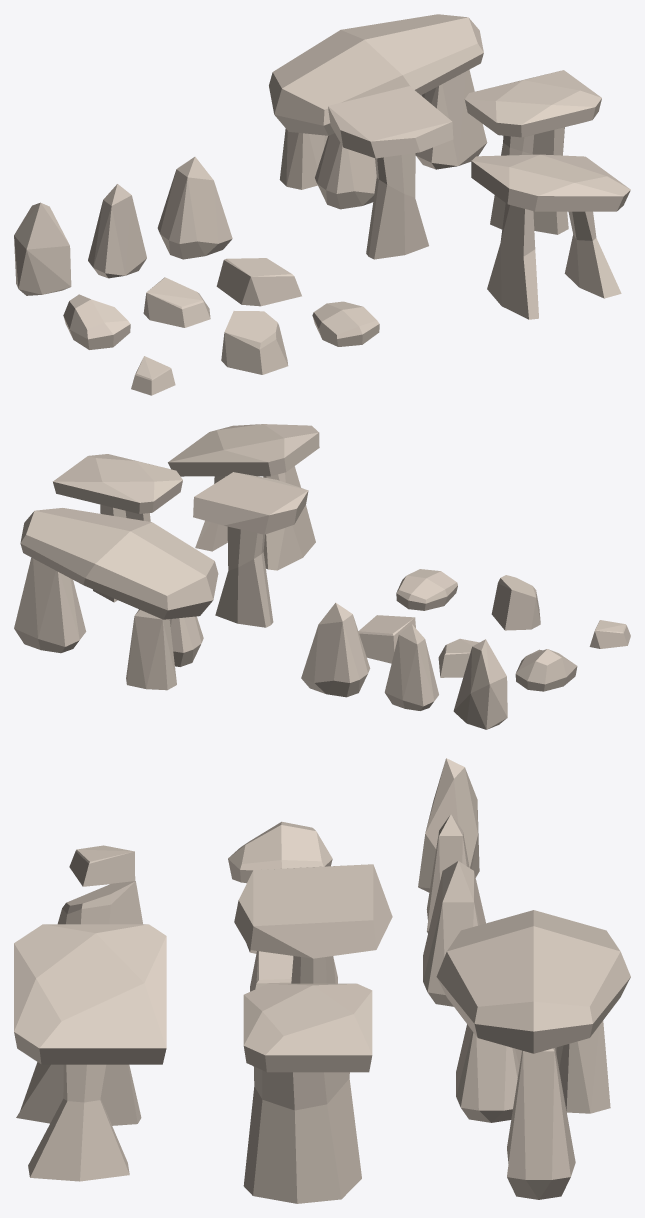
File: _stonesCompletePack.obj
The picture shows the model from 3 angles, top to bottom: view 1: azimuth 30°, elevation 25°; view 2: azimuth 150°, elevation 25°; view 3: azimuth 270°, elevation 25°; orthographic projection. The views are drawn at different scales.
Parts seen in each view (by area): view 1: Dolmen_01, Dolmen_05, Dolmen_02, Dolmen_03, Stone_03, Stone_01, Stone_02, Stone_08, Stone_06, Stone_04, Stone_05, Stone_09 (+1 smaller); view 2: Dolmen_01, Dolmen_02, Dolmen_05, Dolmen_03, Stone_03, Stone_01, Stone_02, Stone_08, Stone_09, Stone_04, Stone_06, Stone_05 (+1 smaller); view 3: Dolmen_01, Dolmen_05, Dolmen_03, Dolmen_02, Stone_03, Stone_01, Stone_04, Stone_08, Stone_07, Stone_02, Stone_06.
Boxes of the visible parts, x1,y1,x2,y2 form: Dolmen_01: [269, 14, 487, 209]; Dolmen_05: [471, 154, 630, 319]; Dolmen_02: [328, 86, 453, 259]; Dolmen_03: [464, 70, 601, 234]; Stone_03: [157, 156, 232, 259]; Stone_01: [14, 202, 71, 295]; Stone_02: [88, 184, 146, 278]; Stone_08: [221, 311, 288, 374]; Stone_06: [216, 258, 301, 306]; Stone_04: [63, 294, 130, 349]; Stone_05: [143, 277, 210, 327]; Stone_09: [312, 301, 379, 346]; Dolmen_01: [14, 508, 218, 690]; Dolmen_02: [193, 472, 308, 627]; Dolmen_05: [168, 424, 319, 570]; Dolmen_03: [53, 454, 182, 602]; Stone_03: [301, 602, 370, 697]; Stone_01: [453, 639, 507, 729]; Stone_02: [384, 624, 438, 710]; Stone_08: [491, 575, 540, 630]; Stone_09: [396, 569, 457, 610]; Stone_04: [515, 649, 577, 691]; Stone_06: [358, 615, 415, 663]; Stone_05: [438, 638, 479, 677]; Dolmen_01: [436, 910, 630, 1199]; Dolmen_05: [14, 924, 166, 1181]; Dolmen_03: [243, 983, 372, 1203]; Dolmen_02: [234, 864, 392, 983]; Stone_03: [423, 861, 485, 1006]; Stone_01: [418, 758, 479, 892]; Stone_04: [228, 821, 332, 883]; Stone_08: [57, 881, 142, 924]; Stone_07: [69, 845, 135, 886]; Stone_02: [426, 814, 469, 932]; Stone_06: [250, 951, 337, 991].
Bounding box in the file's own units: 36.32 × 9.6 × 26.15.
